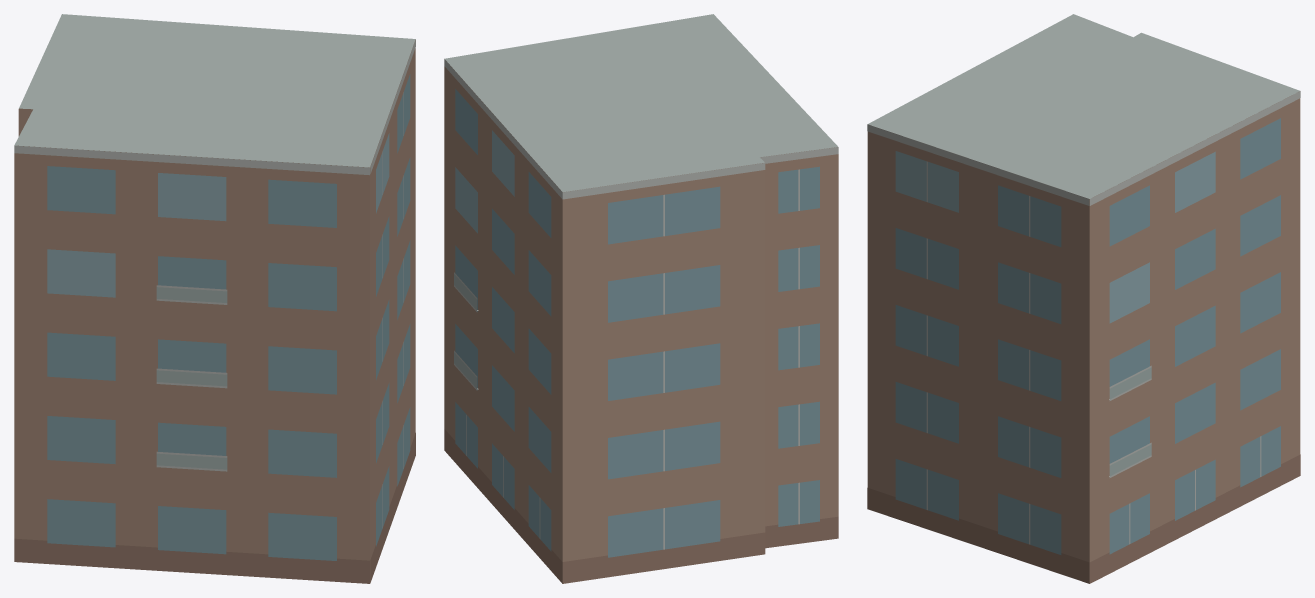
File: survey-upis-32673567.glb
3 renders of one model, left to right at view 1: azimuth 30°, elevation 25°; view 2: azimuth 150°, elevation 25°; view 3: azimuth 270°, elevation 25°, orthographic. The views are drawn at different scales.
Parts seen in each view (by area): view 1: survey-upis-32673567.tmp; view 2: survey-upis-32673567.tmp; view 3: survey-upis-32673567.tmp.
Boxes of the visible parts, box(x1,y1,x2,y2) form: survey-upis-32673567.tmp: box(14, 14, 415, 583); survey-upis-32673567.tmp: box(444, 14, 838, 583); survey-upis-32673567.tmp: box(867, 14, 1300, 583).
Bounding box in the file's own units: 13.58 × 13.16 × 13.43.
